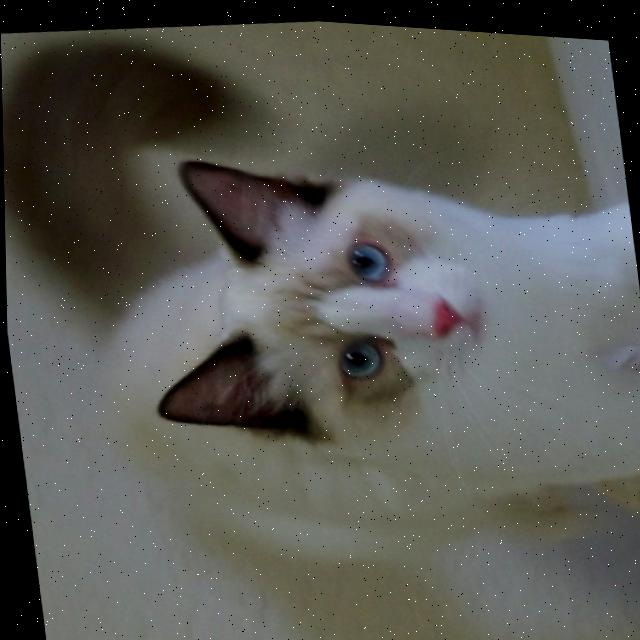Ragdoll: (0, 0, 640, 616)
